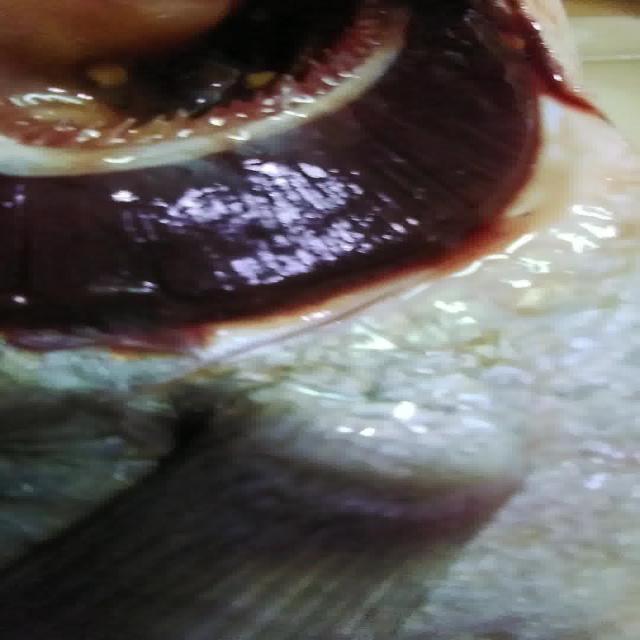Non-Fresh: (3, 0, 559, 372)
